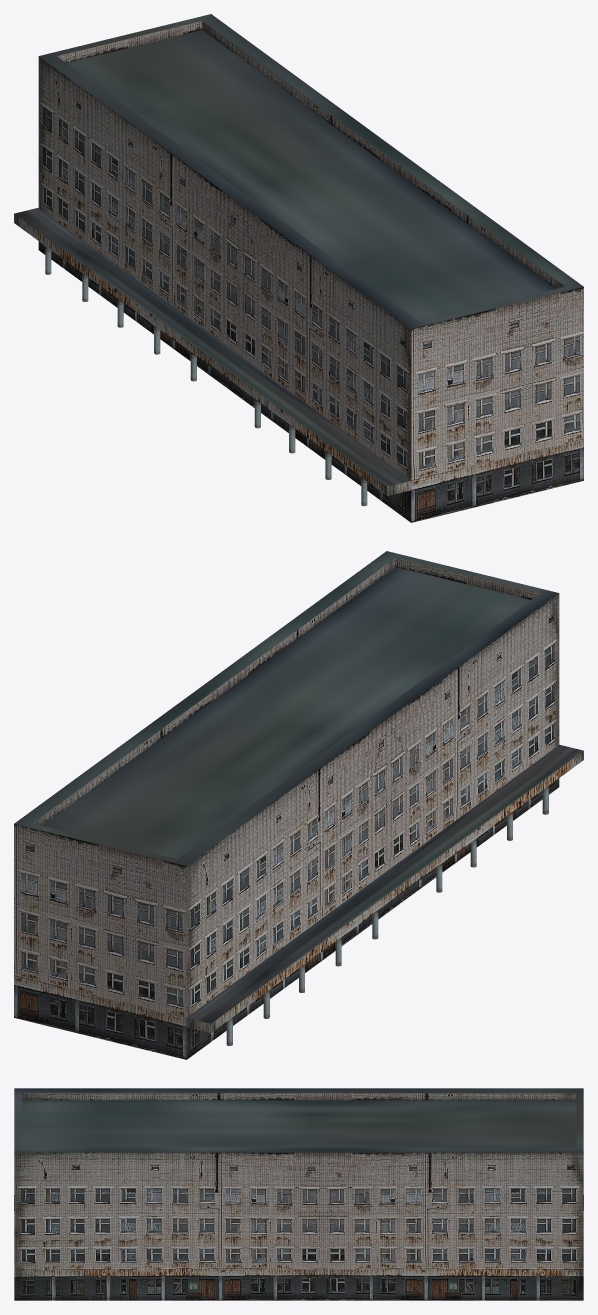
Rendered from sibir_poliklinika.FBX.
The picture shows the model from 3 angles, top to bottom: view 1: azimuth 30°, elevation 25°; view 2: azimuth 150°, elevation 25°; view 3: azimuth 270°, elevation 25°; orthographic projection. The views are drawn at different scales.
Parts seen in each view (by area): view 1: sibir_poliklinika; view 2: sibir_poliklinika; view 3: sibir_poliklinika.
Part boxes in pixels (x1,y1,x2,y2): sibir_poliklinika: (14, 14, 583, 522); sibir_poliklinika: (14, 551, 583, 1059); sibir_poliklinika: (14, 1088, 583, 1300).
Size of the model in its own units: 1560 by 5116 by 1468.
